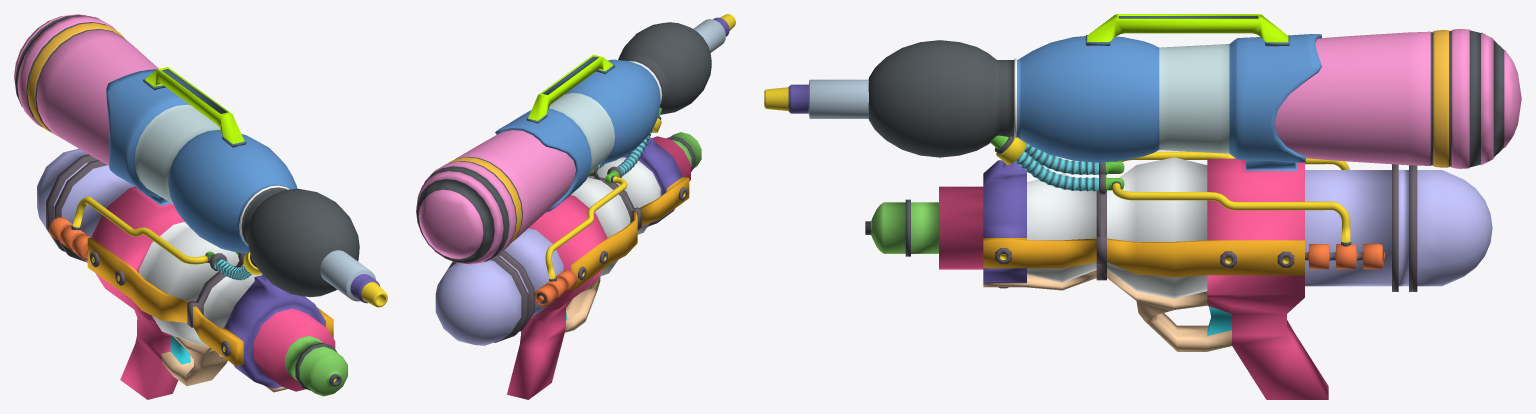
The model's file is Watergun22.fbx.
The picture shows the model from 3 angles, left to right: view 1: azimuth 30°, elevation 25°; view 2: azimuth 150°, elevation 25°; view 3: azimuth 270°, elevation 25°; orthographic projection. The views are drawn at different scales.
Parts seen in each view (by area): view 1: Watergun22; view 2: Watergun22; view 3: Watergun22.
Part boxes in pixels (x1=…): Watergun22: x1=14, y1=14, x2=387, y2=399; Watergun22: x1=416, y1=14, x2=735, y2=399; Watergun22: x1=764, y1=14, x2=1521, y2=399.
Bounding box in the file's own units: 0.0823 × 0.2128 × 0.3879.
